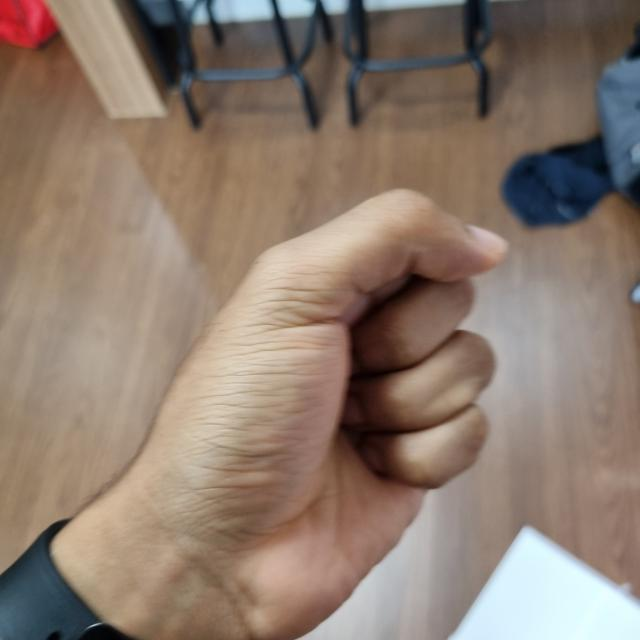Rock: (81, 201, 505, 638)
